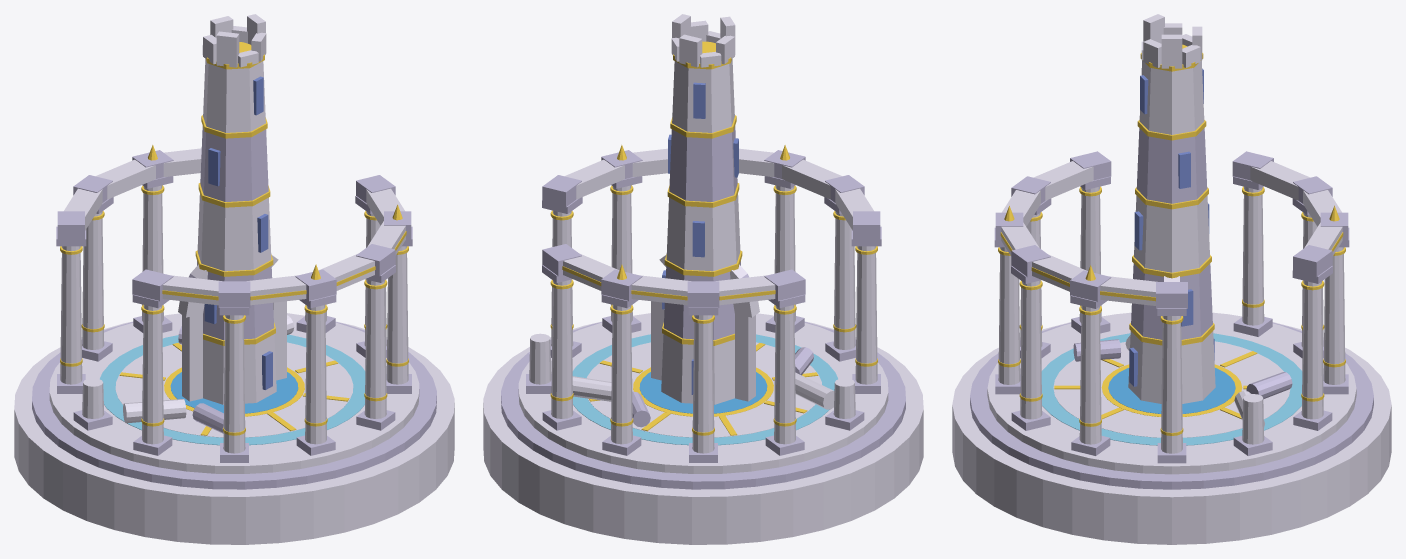
The model's file is sky.glb.
3 renders of one model, left to right at view 1: azimuth 30°, elevation 25°; view 2: azimuth 150°, elevation 25°; view 3: azimuth 270°, elevation 25°, orthographic.
Parts seen in each view (by area): view 1: Temple, Spire, Arch; view 2: Temple, Spire, Arch; view 3: Temple, Spire.
Part boxes in pixels (x1=…): Temple: x1=14, y1=145, x2=454, y2=544; Spire: x1=195, y1=14, x2=276, y2=404; Arch: x1=178, y1=255, x2=286, y2=401; Temple: x1=483, y1=145, x2=923, y2=544; Spire: x1=661, y1=14, x2=742, y2=404; Arch: x1=651, y1=255, x2=759, y2=401; Temple: x1=952, y1=151, x2=1391, y2=544; Spire: x1=1128, y1=14, x2=1215, y2=403.
Bounding box in the file's own units: 20 × 21.4 × 20.
